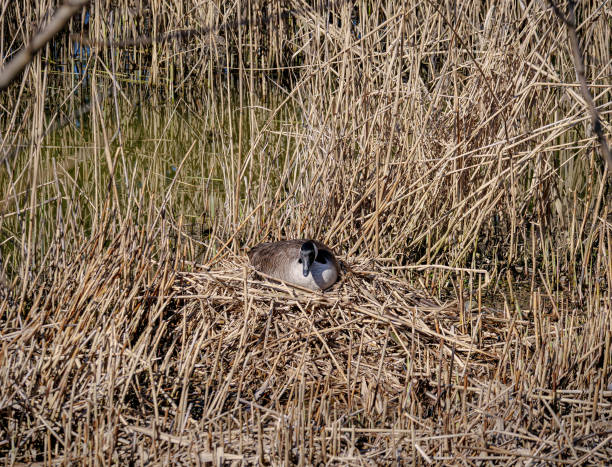goose: (246, 237, 342, 293)
